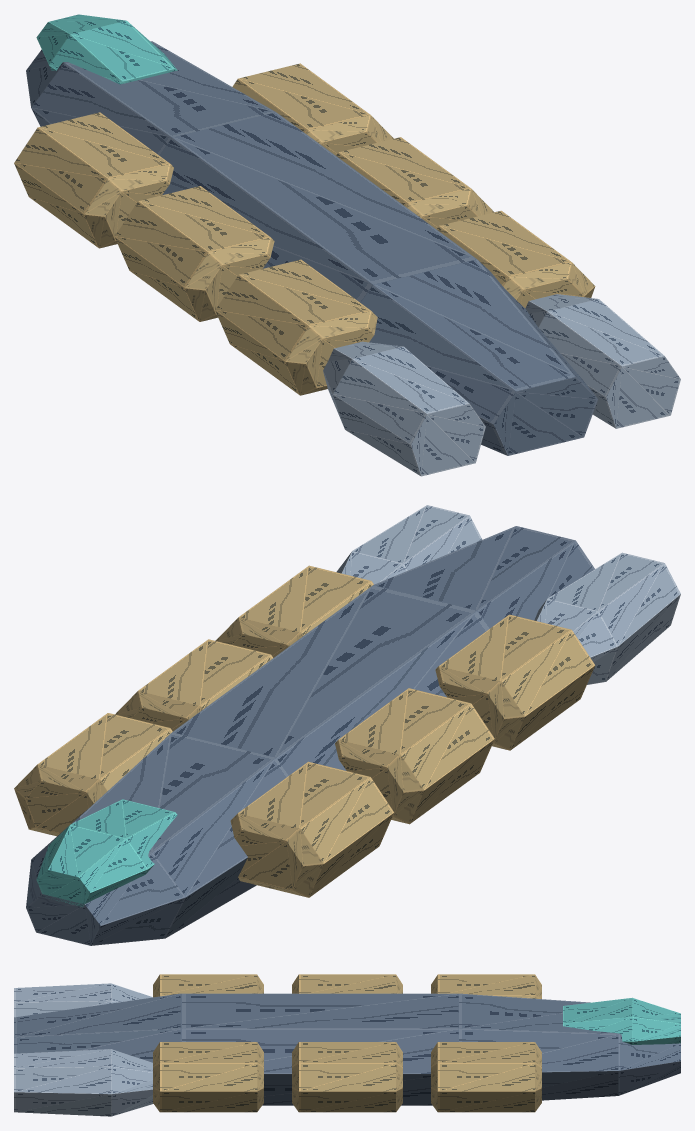
Rendered from Freighter.gltf.
3 renders of one model, top to bottom at view 1: azimuth 30°, elevation 25°; view 2: azimuth 150°, elevation 25°; view 3: azimuth 270°, elevation 25°, orthographic. The views are drawn at different scales.
Parts seen in each view (by area): view 1: Mule modular freighter; view 2: Mule modular freighter; view 3: Mule modular freighter.
Part boxes in pixels (x1=…): Mule modular freighter: x1=14, y1=14, x2=680, y2=476; Mule modular freighter: x1=14, y1=505, x2=680, y2=945; Mule modular freighter: x1=14, y1=974, x2=680, y2=1116.
Bounding box in the file's own units: 35.6 × 12.04 × 96.
Materials: 1 (1 with a texture image).
